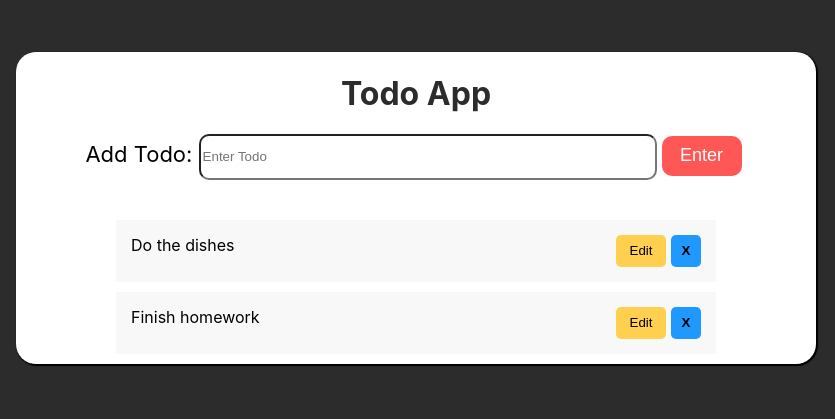
Test case: Todo App › should add todo
This screenshot has width=835, height=419.
Type "new todo" into the field.
click(428, 157); type("new todo")  # box [199,134,657,180]
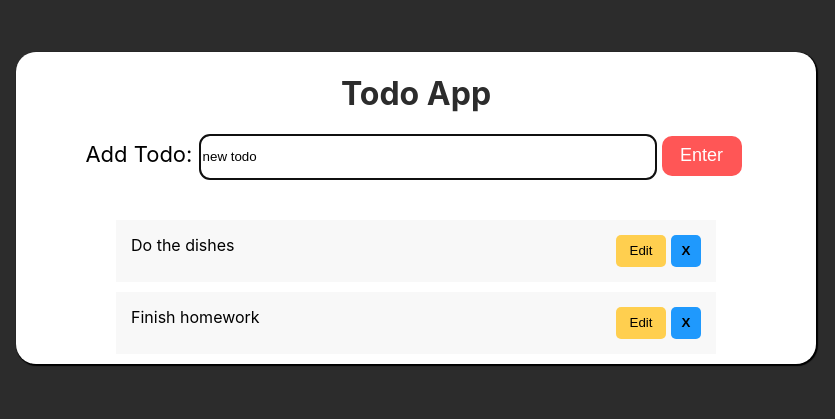
Click the button "Enter".
click(702, 156)  # box [662,136,742,176]
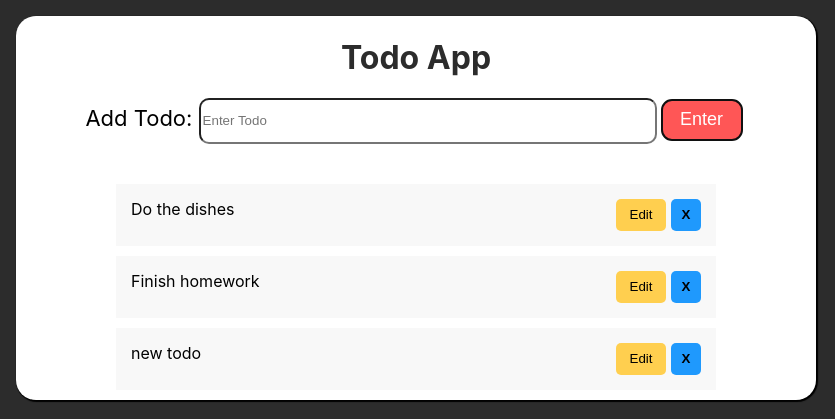
Expected: the text "new todo" is shown, [131,343,201,375]
